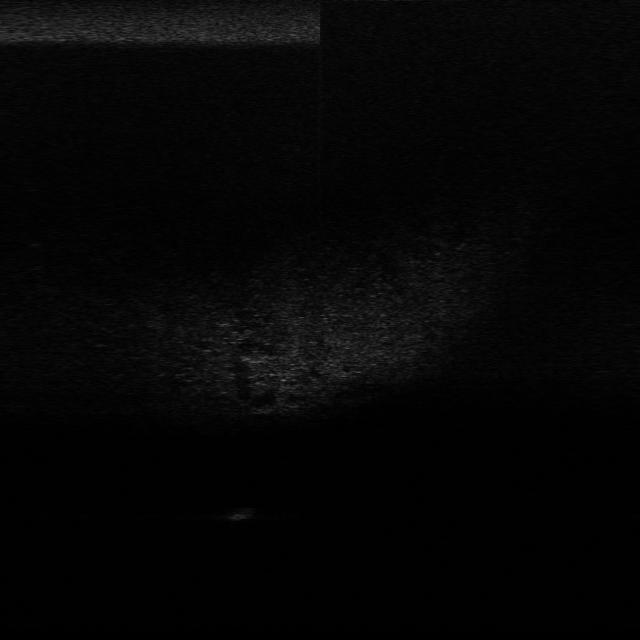cylinder: (226, 500, 262, 524)
